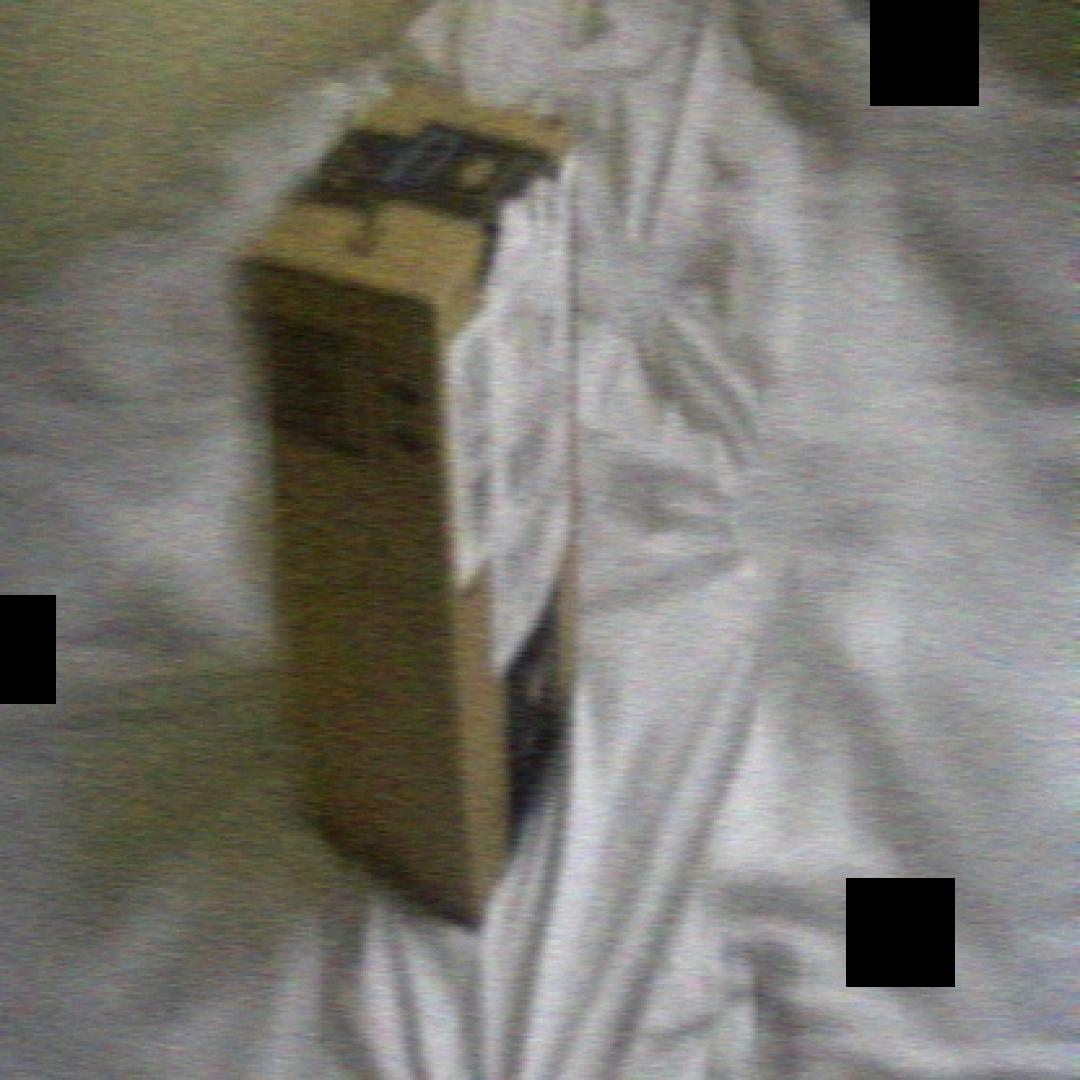package: (231, 65, 592, 953)
